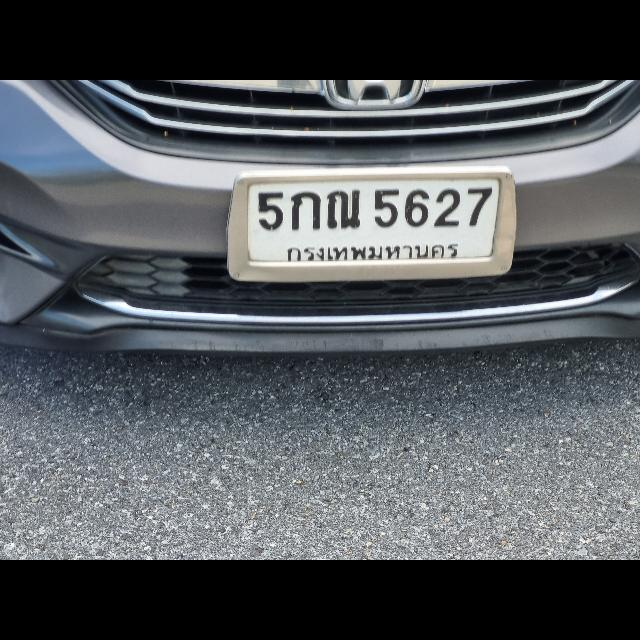licenseplate: (226, 166, 516, 284)
